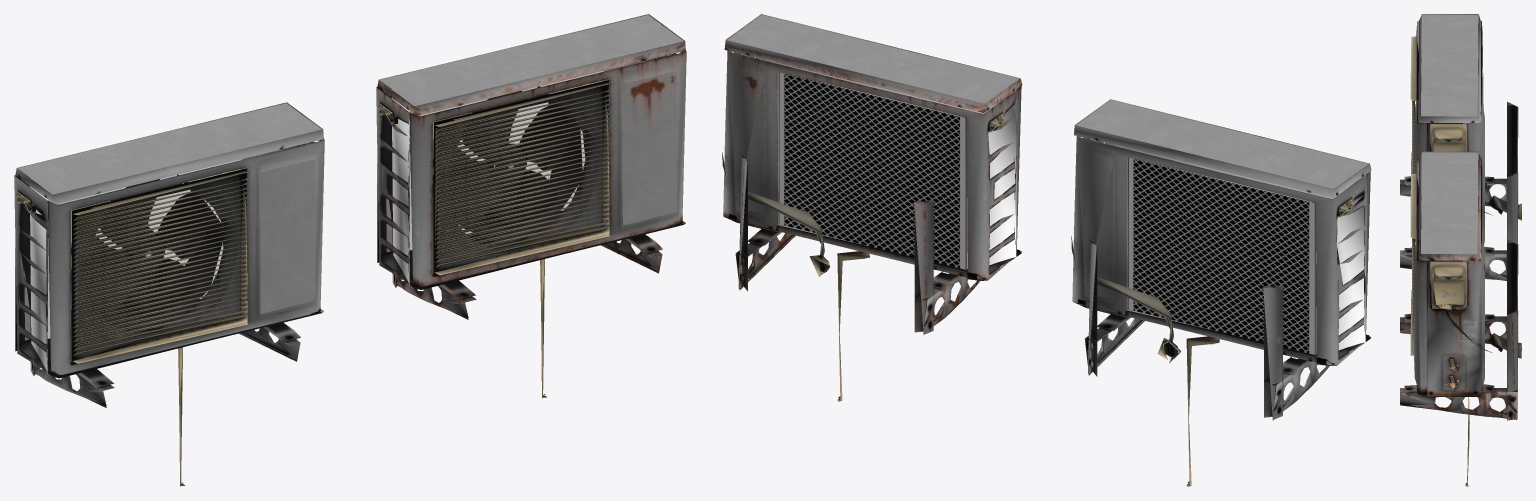
Rendered from ph_exterior_aircon_unit.glb.
The picture shows the model from 3 angles, left to right: view 1: azimuth 30°, elevation 25°; view 2: azimuth 150°, elevation 25°; view 3: azimuth 270°, elevation 25°; orthographic projection. The views are drawn at different scales.
Visible parts, largest first — view 1: exterior_aircon_unit; view 2: exterior_aircon_unit; view 3: exterior_aircon_unit.
Boxes of the visible parts, x1,y1,x2,y2 form: exterior_aircon_unit: (14,14,686,486); exterior_aircon_unit: (722,14,1371,486); exterior_aircon_unit: (1400,14,1521,486).
Bounding box in the file's own units: 1.81 × 0.9298 × 0.3743.
4 materials, 4 textured.
